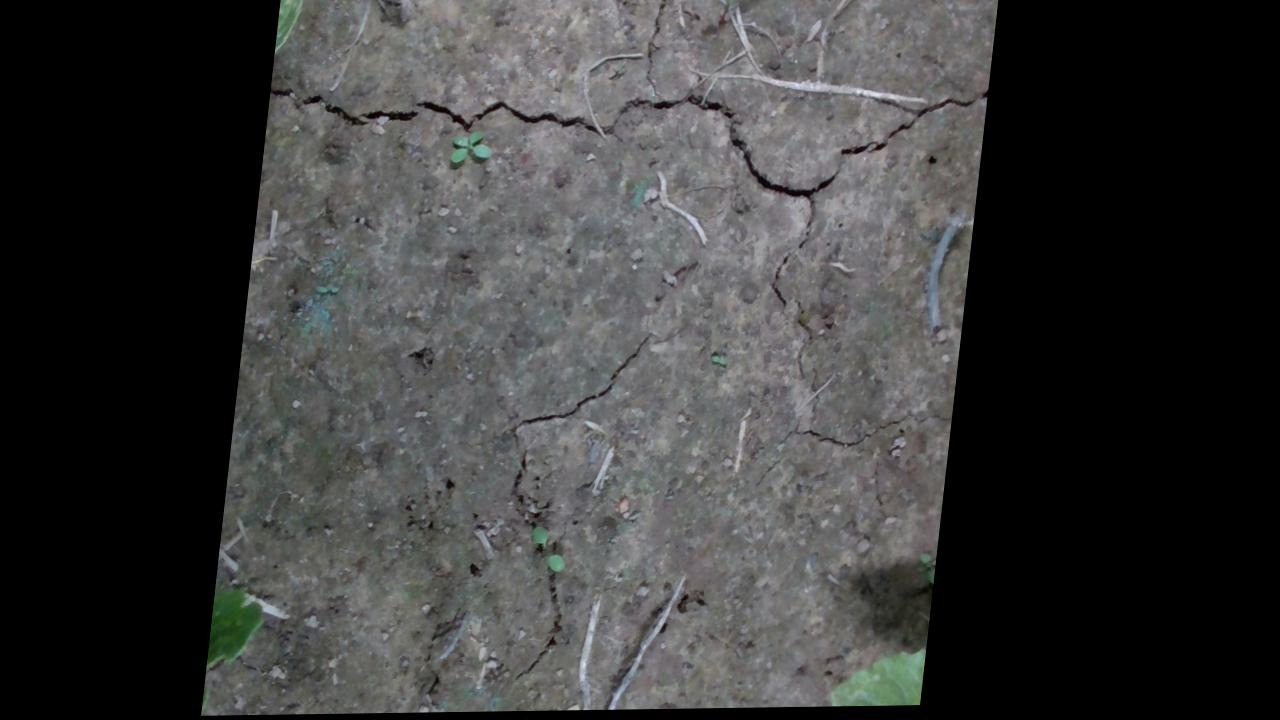weed: (541, 525, 585, 574), (453, 129, 498, 164)
